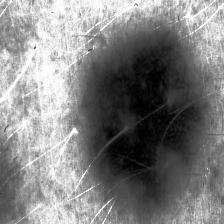Benign Marking or Mole: (83, 44, 210, 194)
